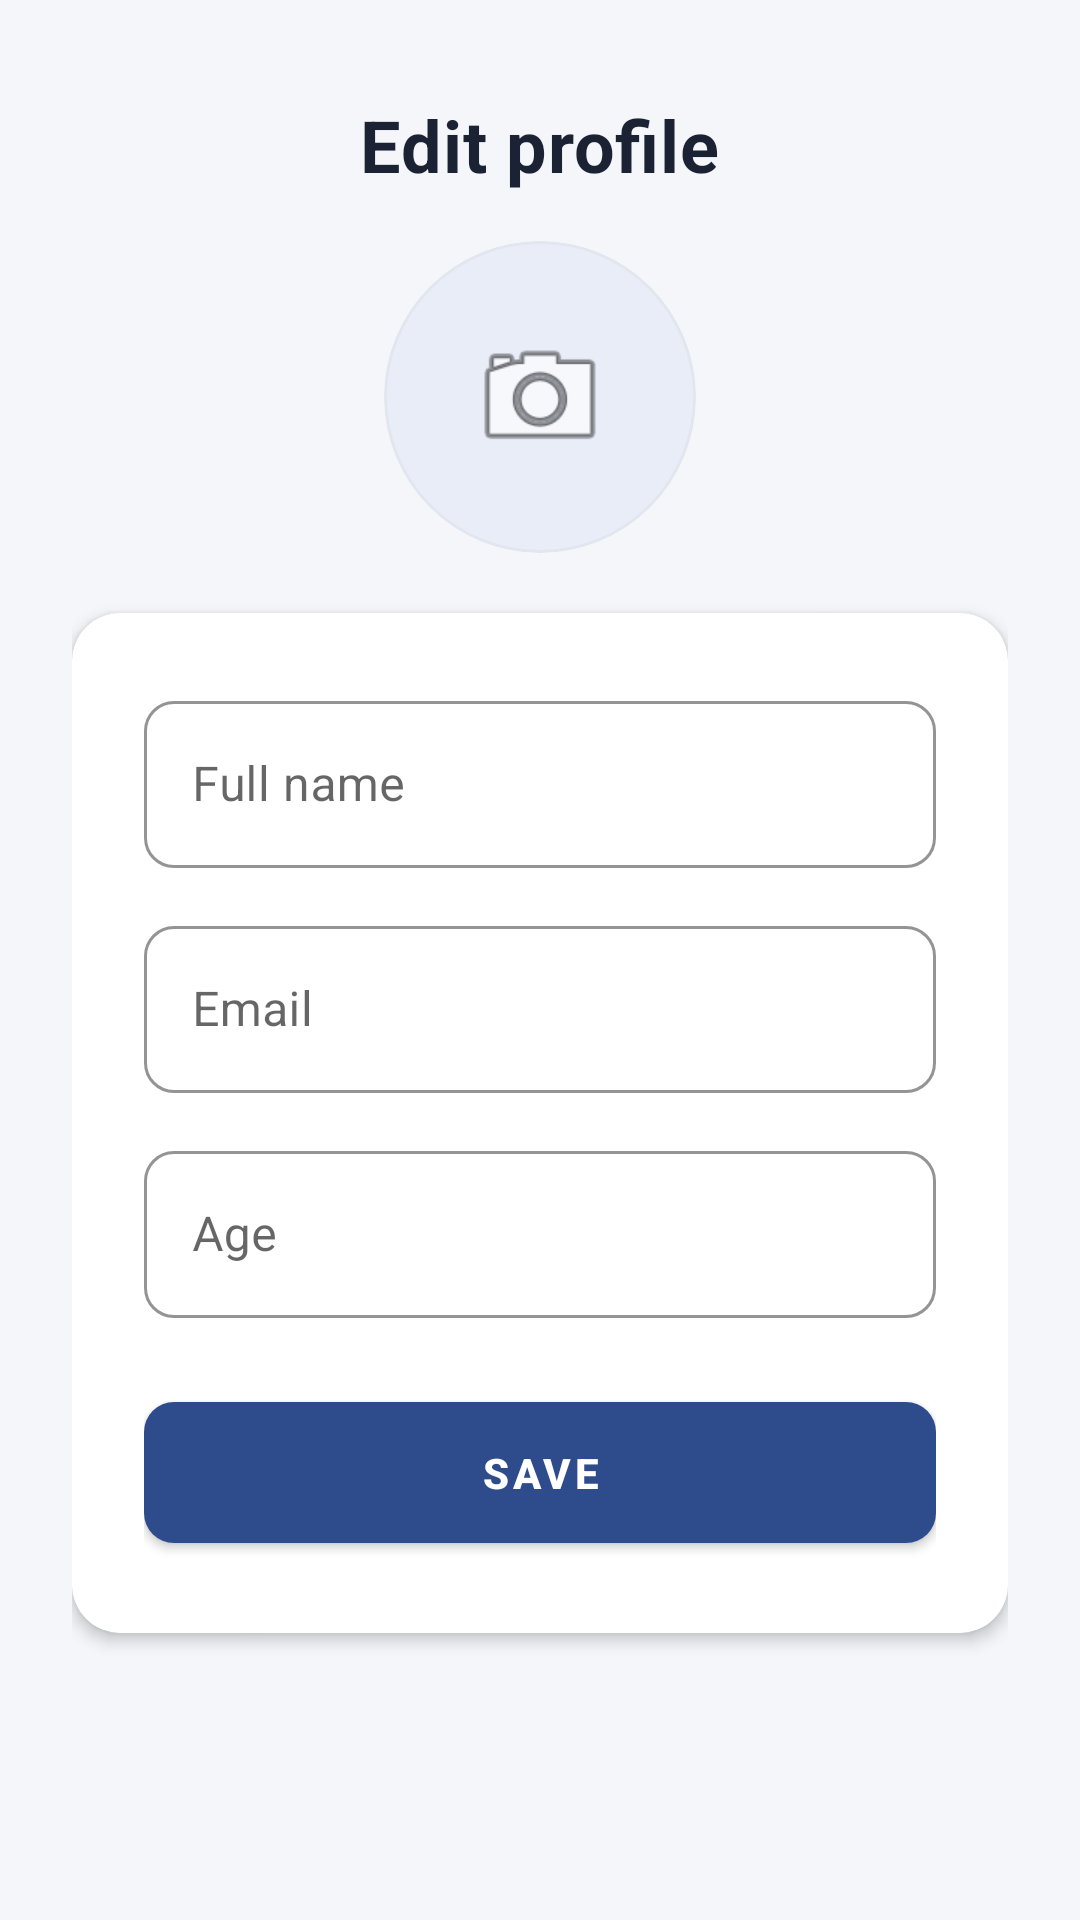

Where icons sit on this 1080 x 1920 app screen, as (x1, y1, x2, y2):
Change profile photo: (384, 241, 696, 553)
